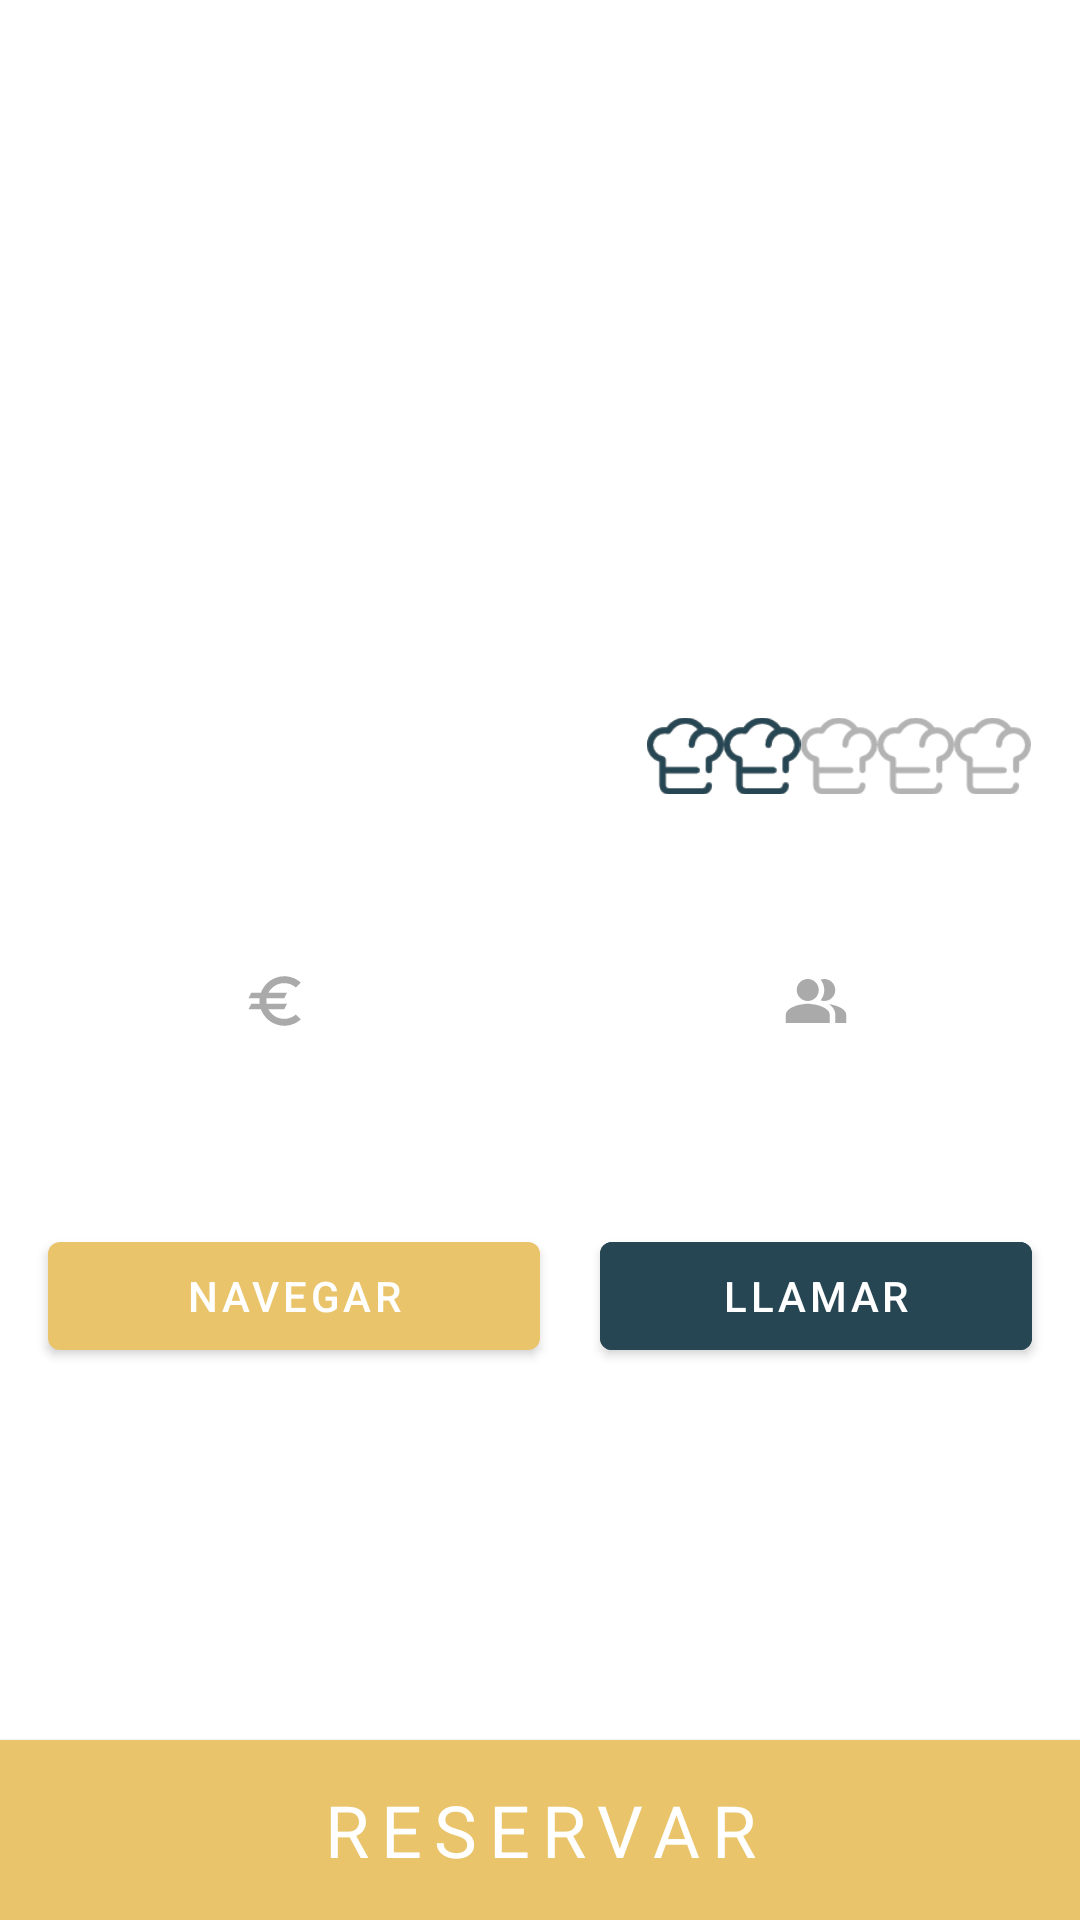

Named icons in this screenshot (1080×1920) and their centers, [x,y]:
aforo: [816,1001]
euro: [275,1001]
